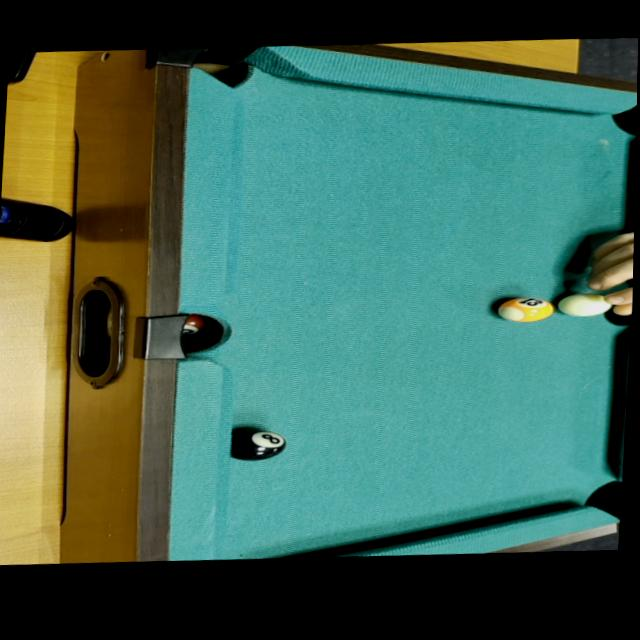cue ball: (549, 289, 611, 323)
other: (226, 424, 291, 464), (495, 291, 552, 326)
